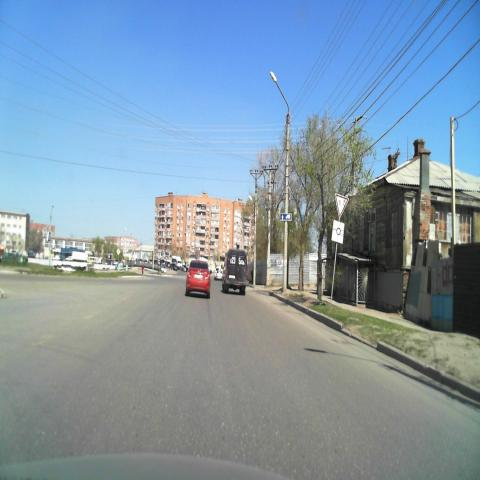2_4: (334, 192, 348, 218)
6_15_1: (280, 212, 292, 221)
8_13_1: (330, 220, 344, 244)
